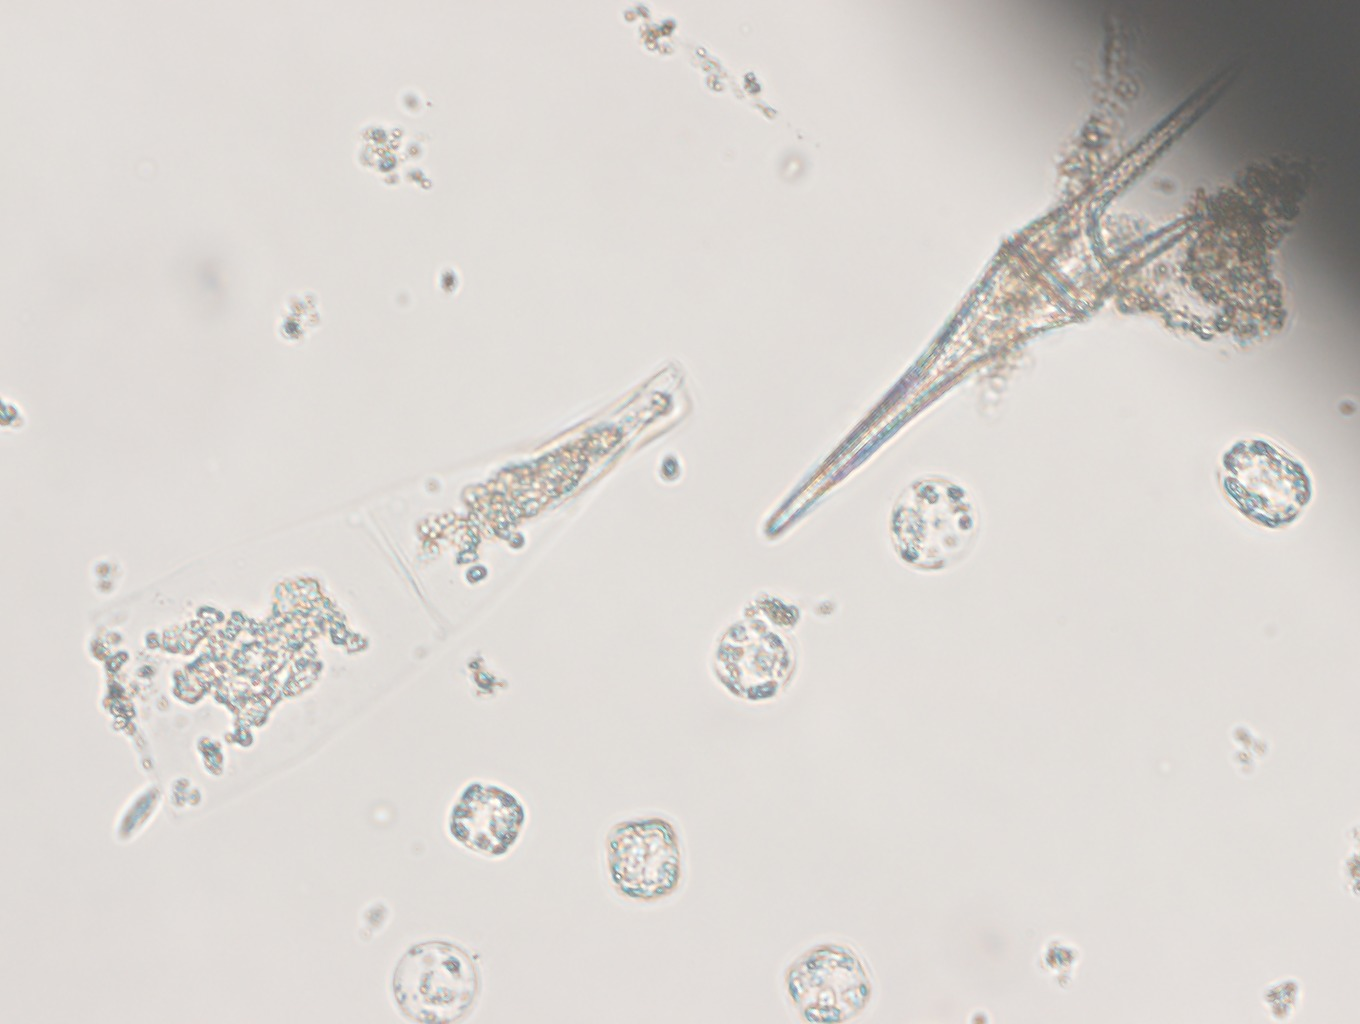ceratium furca: (762, 61, 1243, 542)
helicotheca: (89, 361, 696, 823)
